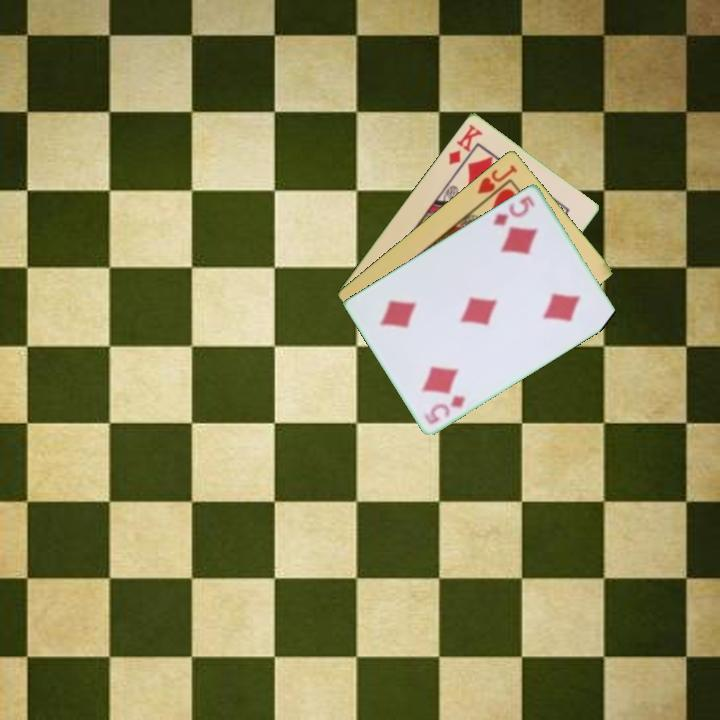5d: (490, 192, 538, 229), (420, 391, 468, 427)
Jh: (473, 161, 520, 206)
Kd: (445, 120, 485, 168)
